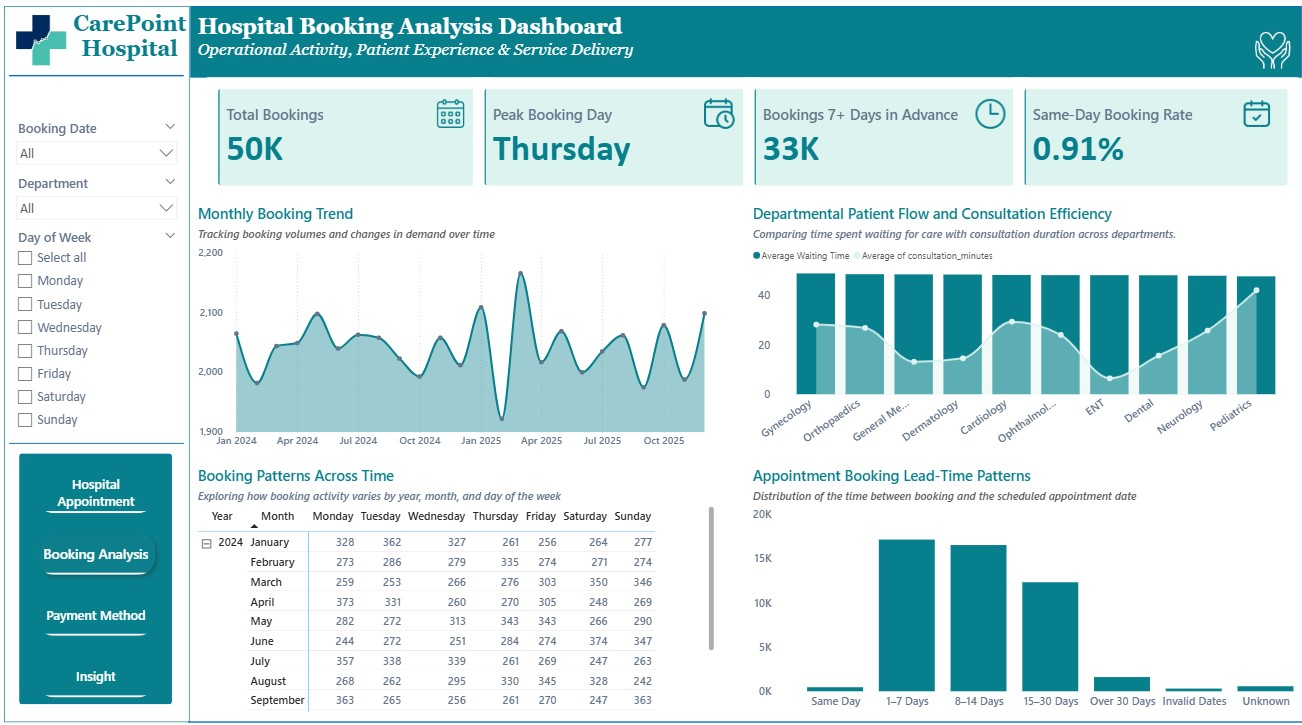

Layout of this report page (visuals, bound fields, positions):
{"tool":"powerbi","page":{"name":"Booking Analysis","canvas":[1950,1080],"ordinal":1},"visuals":[{"type":"shape","box":[9,15,272,1051],"z":0},{"type":"textbox","box":[97,16,192,112],"z":1000},{"type":"shape","box":[282,15,1632,105],"z":2000},{"type":"image","box":[13,18,100,96],"z":3000},{"type":"textbox","box":[288,22,816,80],"z":4000},{"type":"shape","box":[16,640,256,32],"z":5000},{"type":"image","box":[1831,48,80,64],"z":6000},{"type":"shape","box":[16,101,256,32],"z":7000},{"type":"cardVisual","fields":{"Data":["hospital_appointments.Total Bookings"]},"box":[306,120,420,176],"z":8000},{"type":"slicer","fields":{"Values":["hospital_appointments.Day of Week"]},"box":[16,336,256,320],"z":9000},{"type":"slicer","fields":{"Values":["hospital_appointments.booking_date.Variation.Date Hierarchy.Year","hospital_appointments.booking_date.Variation.Date Hierarchy.Quarter","hospital_appointments.booking_date.Variation.Date Hierarchy.Month","hospital_appointments.booking_date.Variation.Date Hierarchy.Day"]},"box":[16,176,256,80],"z":10000},{"type":"cardVisual","fields":{"Data":["hospital_appointments.Peak Booking Day"]},"box":[697,120,420,176],"z":11000},{"type":"cardVisual","fields":{"Data":["hospital_appointments.Bookings 7+ Days in Advance"]},"box":[1093,120,420,176],"z":12000},{"type":"cardVisual","fields":{"Data":["hospital_appointments.Same-Day Booking Rate"]},"box":[1490,120,420,176],"z":13000},{"type":"lineChart","title":"Monthly Booking Trend","fields":{"Y":["CountNonNull(hospital_appointments.appointment_id)"],"Category":["hospital_appointments.booking_date.Variation.Date Hierarchy.Year","hospital_appointments.booking_date.Variation.Date Hierarchy.Month"]},"box":[288,304,784,368],"z":14000},{"type":"pivotTable","title":"Booking Patterns Across Time","fields":{"Columns":["hospital_appointments.Booking Day"],"Values":["CountNonNull(hospital_appointments.appointment_id)"],"Rows":["hospital_appointments.booking_date.Variation.Date Hierarchy.Year","hospital_appointments.booking_date.Variation.Date Hierarchy.Month"]},"box":[288,688,768,368],"z":15000},{"type":"clusteredColumnChart","title":"Appointment Booking Lead-Time Patterns","fields":{"Y":["CountNonNull(hospital_appointments.appointment_id)"],"Category":["hospital_appointments.Lead Time Group"]},"box":[1102,688,848,368],"z":16000},{"type":"lineClusteredColumnComboChart","title":"Departmental Patient Flow and Consultation Efficiency","fields":{"Category":["public hospital_appointments.department"],"Y":["hospital_appointments.Average Waiting Time"],"Y2":["Avg(hospital_appointments.consultation_minutes)"]},"box":[1102,304,848,368],"z":17000},{"type":"slicer","fields":{"Values":["hospital_appointments.department"]},"box":[16,256,256,80],"z":18000},{"type":"shape","box":[279,1052,1671,25],"z":19000},{"type":"shape","box":[32,672,224,368],"z":20000},{"type":"pageNavigator","box":[47,688,192,352],"z":21000},{"type":"image","box":[1434,148,44,48],"z":22000},{"type":"image","box":[640,148,48,48],"z":23000},{"type":"image","box":[1824,148,48,48],"z":24000},{"type":"image","box":[1034,148,48,48],"z":25000}]}

Visuals, with their boxes on the page's 1950x1080 design canvas (x1, y1, x2, y2). These are canvas units, not pixel positions in the 1302x725 screenshot, which may show the page scaled, cropped or inside an application window:
shape: <region>9, 15, 281, 1066</region>
textbox: <region>97, 16, 289, 128</region>
shape: <region>282, 15, 1914, 120</region>
image: <region>13, 18, 113, 114</region>
textbox: <region>288, 22, 1104, 102</region>
shape: <region>16, 640, 272, 672</region>
image: <region>1831, 48, 1911, 112</region>
shape: <region>16, 101, 272, 133</region>
cardVisual - hospital_appointments.Total Bookings: <region>306, 120, 726, 296</region>
slicer - hospital_appointments.Day of Week: <region>16, 336, 272, 656</region>
slicer - hospital_appointments.booking_date.Variation.Date Hierarchy.Year x hospital_appointments.booking_date.Variation.Date Hierarchy.Quarter: <region>16, 176, 272, 256</region>
cardVisual - hospital_appointments.Peak Booking Day: <region>697, 120, 1117, 296</region>
cardVisual - hospital_appointments.Bookings 7+ Days in Advance: <region>1093, 120, 1513, 296</region>
cardVisual - hospital_appointments.Same-Day Booking Rate: <region>1490, 120, 1910, 296</region>
"Monthly Booking Trend" lineChart: <region>288, 304, 1072, 672</region>
"Booking Patterns Across Time" pivotTable: <region>288, 688, 1056, 1056</region>
"Appointment Booking Lead-Time Patterns" clusteredColumnChart: <region>1102, 688, 1950, 1056</region>
"Departmental Patient Flow and Consultation Efficiency" lineClusteredColumnComboChart: <region>1102, 304, 1950, 672</region>
slicer - hospital_appointments.department: <region>16, 256, 272, 336</region>
shape: <region>279, 1052, 1950, 1077</region>
shape: <region>32, 672, 256, 1040</region>
pageNavigator: <region>47, 688, 239, 1040</region>
image: <region>1434, 148, 1478, 196</region>
image: <region>640, 148, 688, 196</region>
image: <region>1824, 148, 1872, 196</region>
image: <region>1034, 148, 1082, 196</region>
